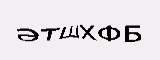Б: (120, 22, 146, 44)
Т: (39, 25, 59, 44)
Ф: (98, 23, 120, 44)
Х: (80, 21, 98, 43)
Ш: (59, 22, 82, 39)
Ә: (13, 26, 40, 42)
